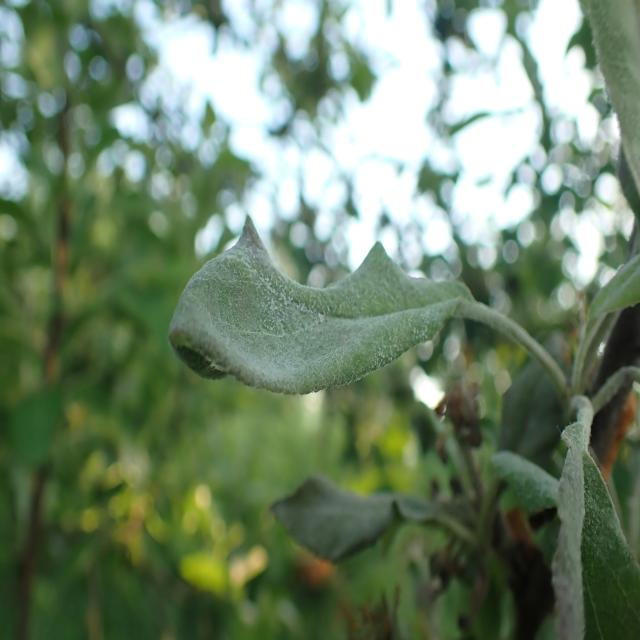Powdery_mildew: (155, 189, 581, 443), (566, 0, 640, 304)
